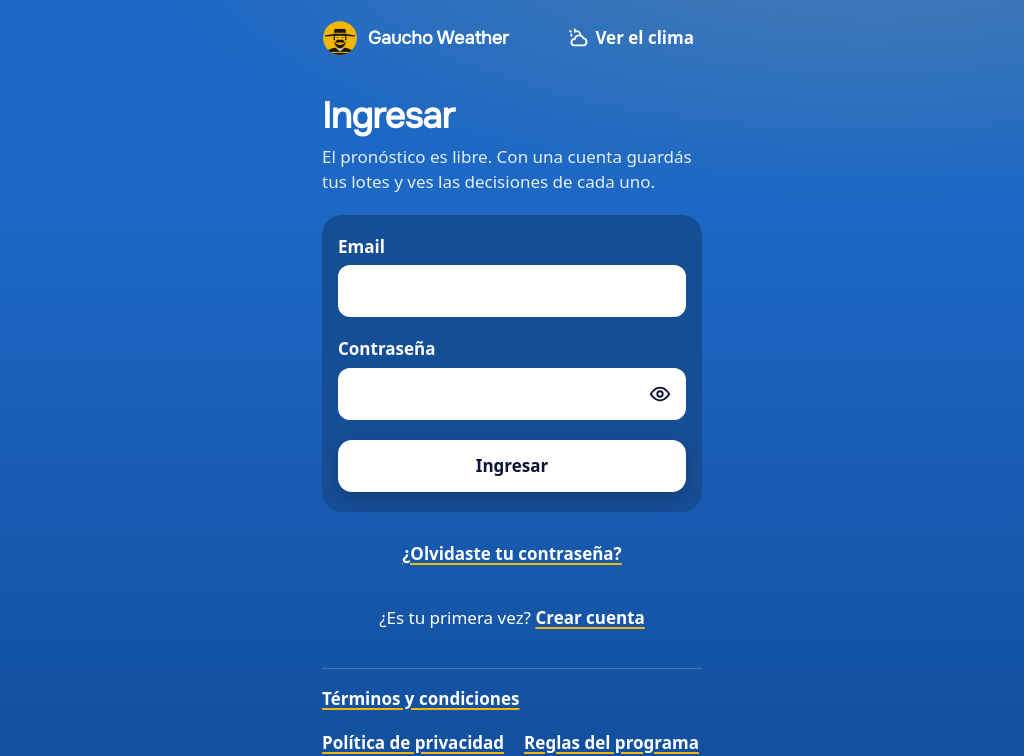
Test: login › shows the server message when the credentials are wrong
Type "ana@lacampana.com.ar" into the field labelled "Email" at coordinates (512, 291), box [338,265,686,317]
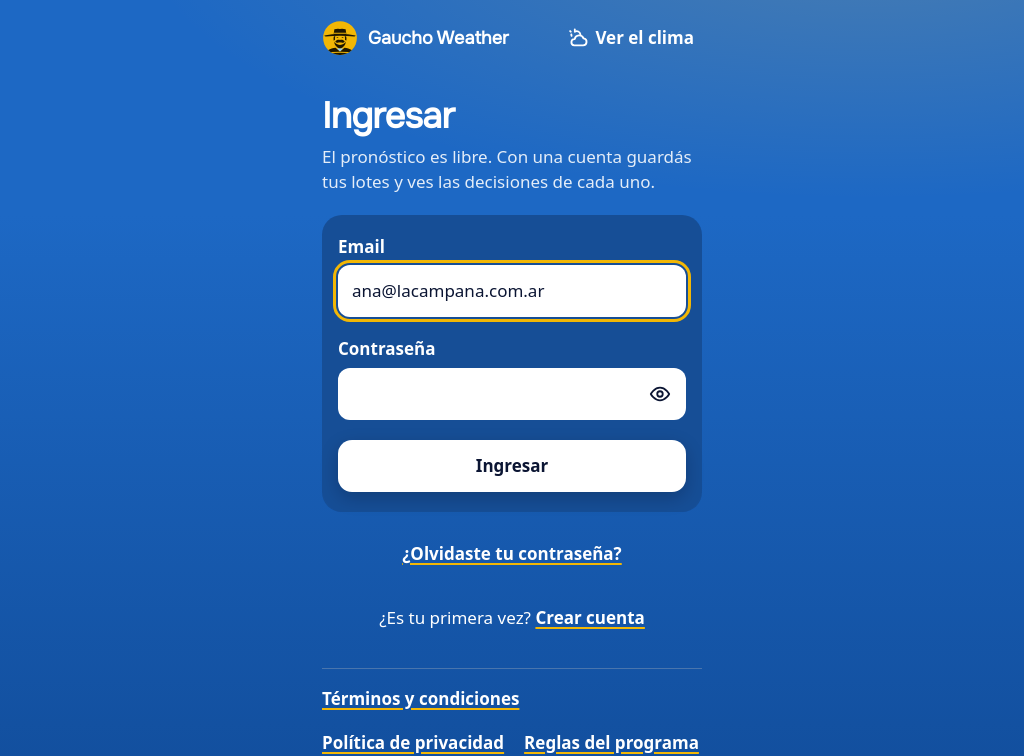
Type "otra-clave" into the password field labelled "Contraseña" at coordinates (512, 394), box [338,368,686,420]
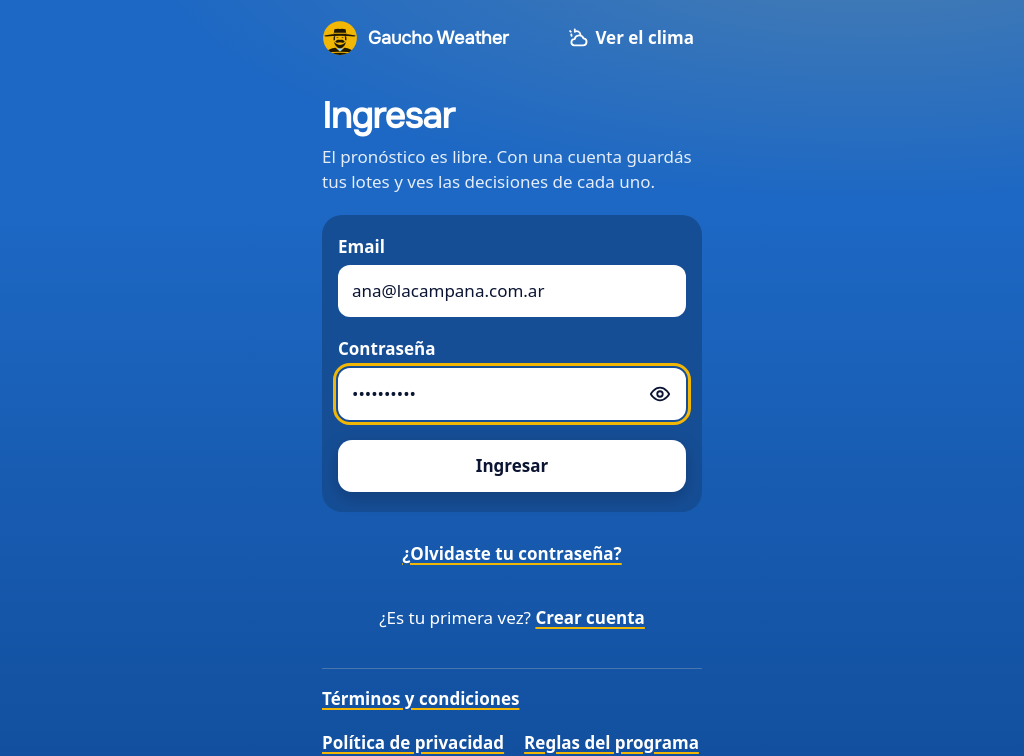
Click the button "Ingresar" at coordinates (512, 466), box [338,440,686,492]
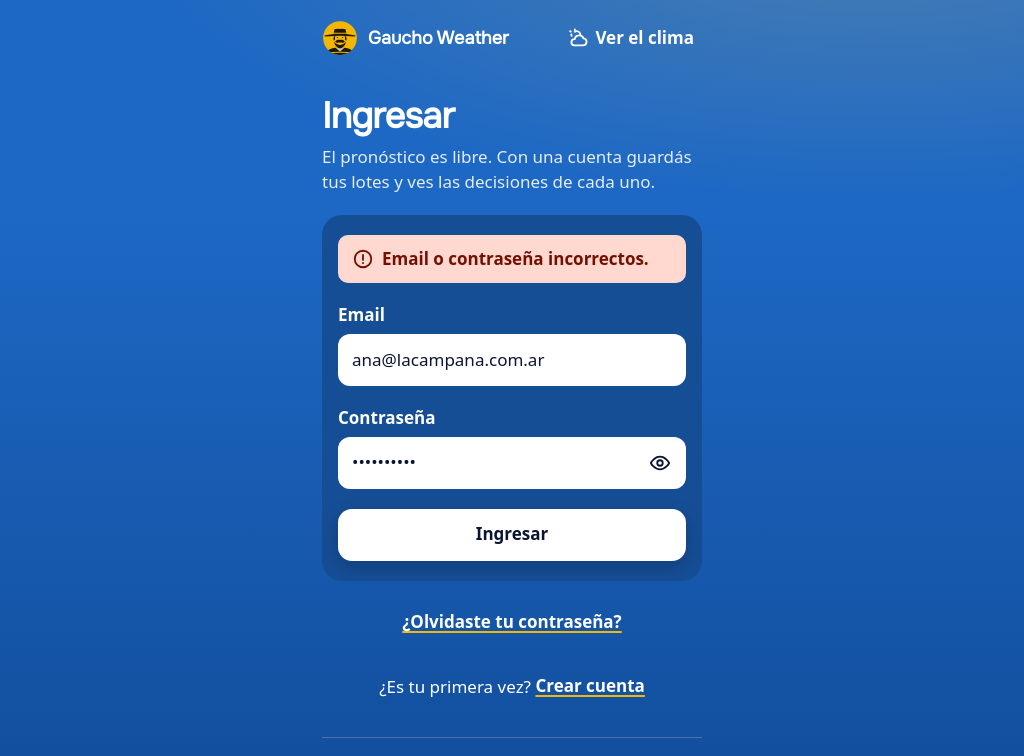
Expected: the heading "Ingresar" is shown, [322,93,454,139]
Expected: the message reads "Email o contraseña incorrectos.", [382,247,649,270]
